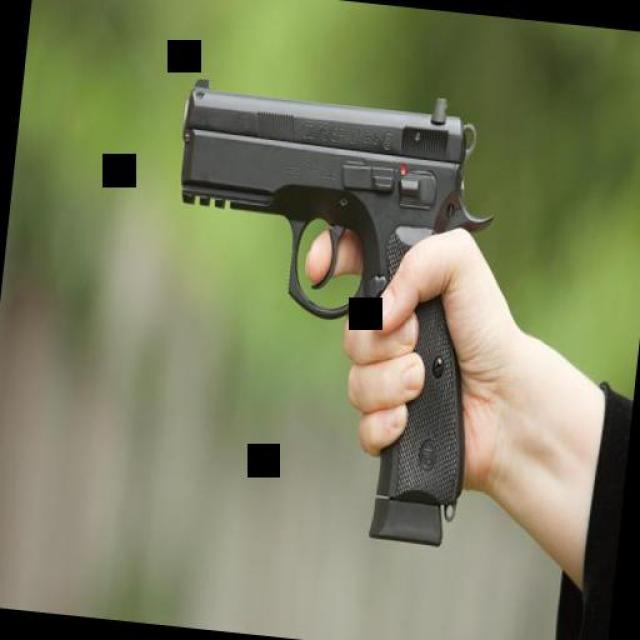gun: (135, 70, 503, 552)
